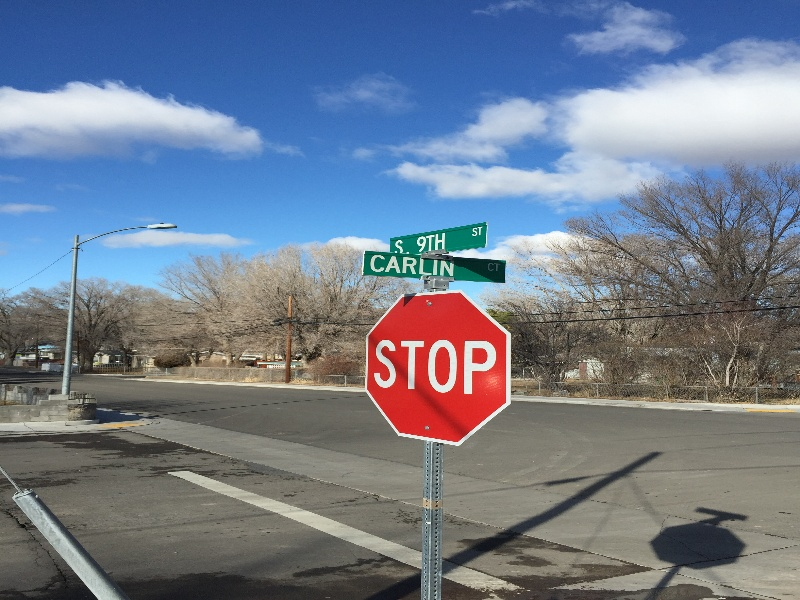stop sign: (360, 288, 518, 450)
